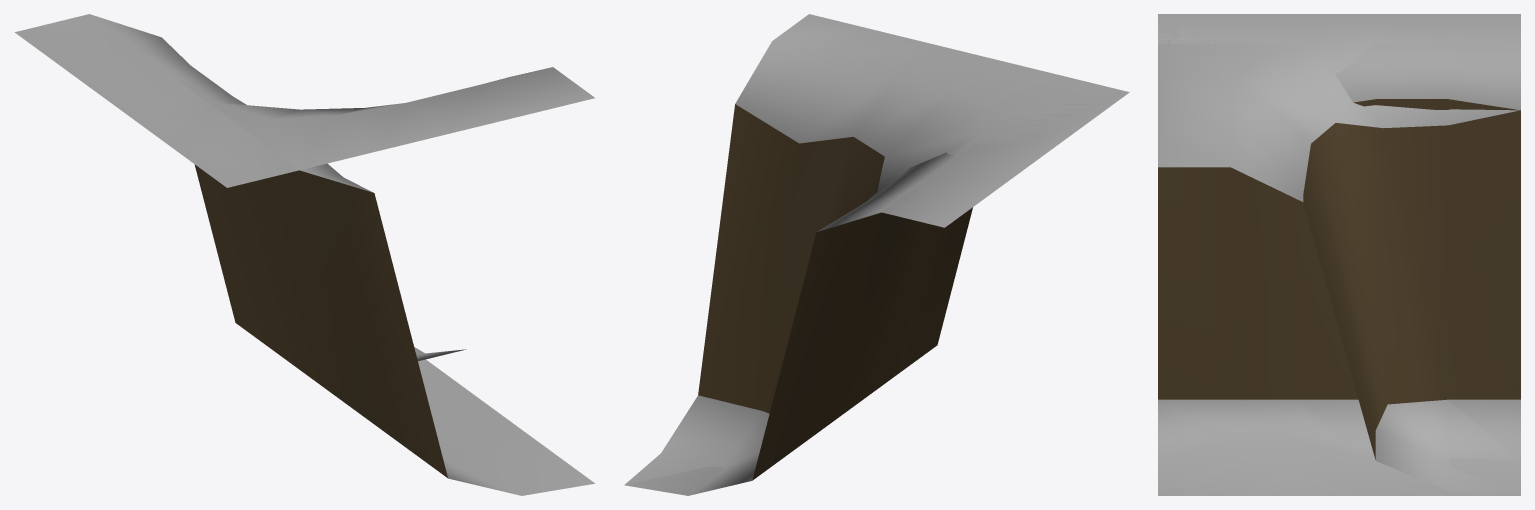
Rendered from SM_DirtPiles.fbx.
The picture shows the model from 3 angles, left to right: view 1: azimuth 30°, elevation 25°; view 2: azimuth 150°, elevation 25°; view 3: azimuth 270°, elevation 25°; orthographic projection. The views are drawn at different scales.
Visible parts, largest first — view 1: DirtSlide, DirtCorner; view 2: DirtCorner, DirtSlide; view 3: DirtCorner, DirtSlide.
Part boxes in pixels (box(x1,y1,x2,y2)): DirtSlide: box(15, 14, 594, 495); DirtCorner: box(15, 14, 594, 361); DirtCorner: box(625, 14, 1128, 495); DirtSlide: box(624, 90, 1129, 495); DirtCorner: box(1158, 14, 1520, 495); DirtSlide: box(1158, 14, 1520, 495).
Bounding box in the file's own units: 1 × 1 × 1.
